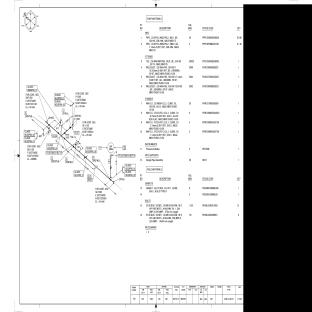flange: (48, 127, 50, 132)
support: (94, 165, 98, 169)
tee: (58, 133, 65, 139)
weld: (58, 132, 59, 134), (64, 132, 65, 134), (64, 138, 65, 140), (70, 127, 71, 129)
